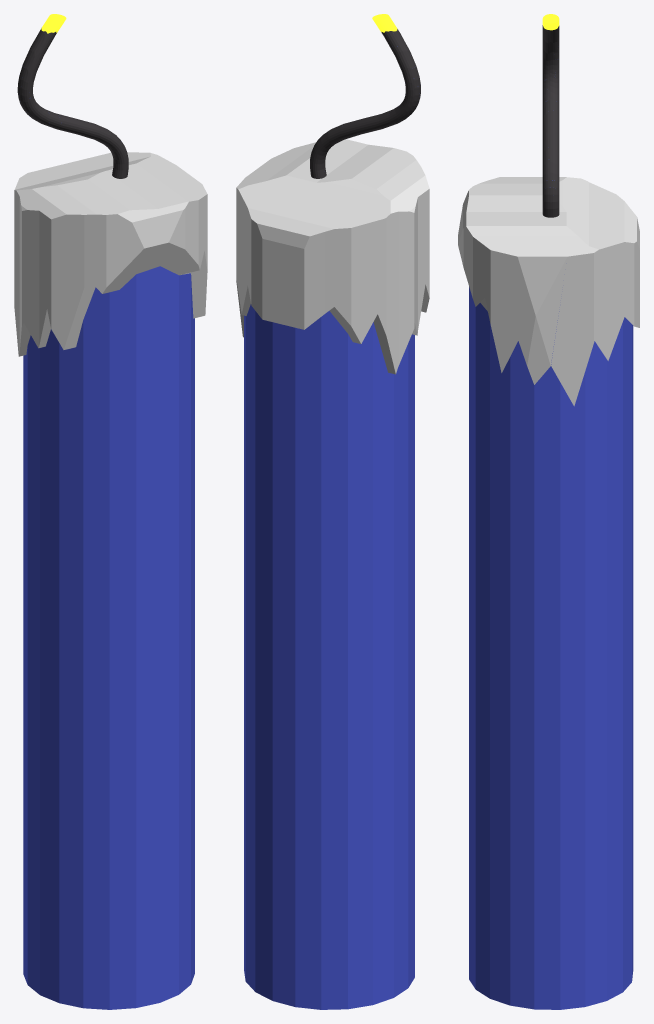
File: Dynamite_gelee (1).fbx
The picture shows the model from 3 angles, left to right: view 1: azimuth 30°, elevation 25°; view 2: azimuth 150°, elevation 25°; view 3: azimuth 270°, elevation 25°; orthographic projection. The views are drawn at different scales.
Visible parts, largest first — view 1: Dynamite gelee; view 2: Dynamite gelee; view 3: Dynamite gelee.
Boxes of the visible parts, box(x1,y1,x2,y2) form: Dynamite gelee: box(14, 14, 207, 1009); Dynamite gelee: box(236, 14, 429, 1009); Dynamite gelee: box(458, 14, 639, 1009).
Size of what is drawn, in the model's own units: 5.85 by 31.54 by 5.56.
